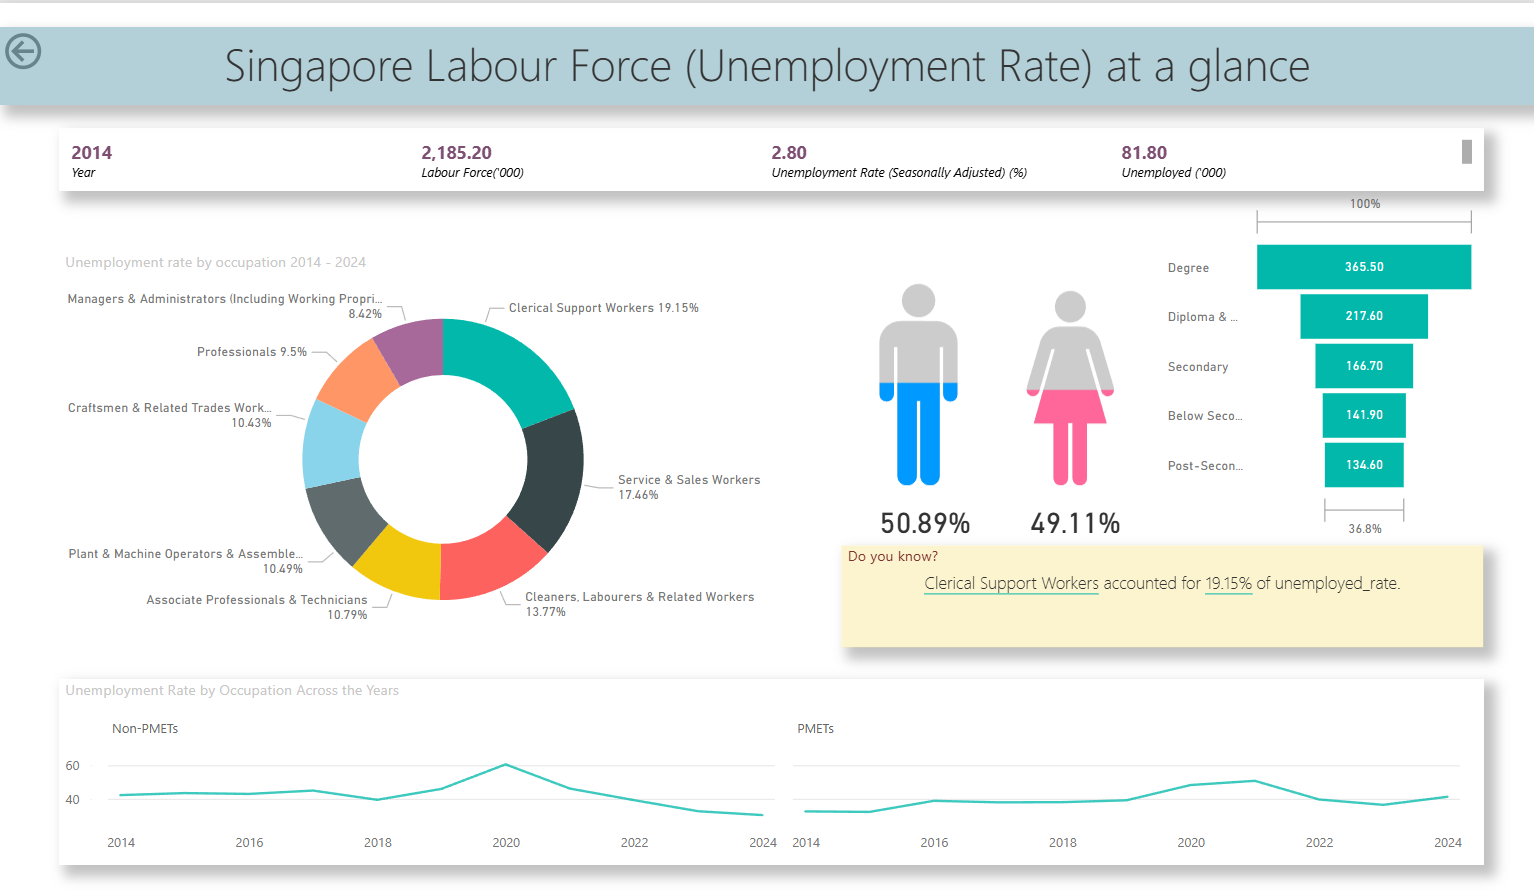

What the dashboard file says about the page in this screenshot:
{"tool":"powerbi","page":{"name":"Page 1","canvas":[1280,720],"ordinal":0},"visuals":[{"type":"image","box":[596.2,406.2,295,67.1],"z":0,"group":"g1"},{"type":"lineChart","title":"Unemployed Rate by Occupation","fields":{"Category":["labourtrendsDB unemployment_rate_by_occupation_long.year"],"Y":["Sum(labourtrendsDB unemployment_rate_by_occupation_long.unemployed_rate)"],"Series":["labourtrendsDB unemployment_rate_by_occupation_long.occupation"]},"box":[0,90.5,1279.7,316.8],"z":0},{"type":"image","box":[806.9,407.8,299.6,65.5],"z":1000,"group":"g1"},{"type":"hundredPercentStackedColumnChart","title":"Unemployed Count by Age Group       ","fields":{"Category":["labourtrendsDB long_term_unemployed_pmets_by_age_long.year"],"Y":["Sum(labourtrendsDB long_term_unemployed_pmets_by_age_long.unemployed_count)"],"Series":["labourtrendsDB long_term_unemployed_pmets_by_age_long.age_group"]},"box":[0,478.3,640,241.7],"z":1000},{"type":"image","box":[1106.5,406.2,152.9,45.3],"z":2000,"group":"g1"},{"type":"clusteredColumnChart","title":"Unemployed Count by Non-PMETs / PMETs","fields":{"Series":["labourtrendsDB long_term_unemployed_pmets_by_age_long.pmets_status"],"Category":["labourtrendsDB long_term_unemployed_pmets_by_age_long.year"],"Y":["Sum(labourtrendsDB long_term_unemployed_pmets_by_age_long.unemployed_count)"]},"box":[639.9,477.6,639.9,241.9],"z":2000},{"type":"slicer","fields":{"Values":["Table.Year"]},"box":[128.4,12.4,131.2,78.7],"z":3000},{"type":"cardVisual","fields":{"Data":["Sum(Table.Labour Force('000))"]},"box":[319.9,0,270,81.2],"z":4000},{"type":"cardVisual","fields":{"Data":["Sum(Table.Unemployed ('000))"]},"box":[625.8,0,265.3,79.6],"z":5000},{"type":"cardVisual","fields":{"Data":["Sum(Table.Unemployment Rate (Seasonally Adjusted) (%))"]},"box":[914.5,0,344.9,81.2],"z":6000},{"type":"shape","box":[0,74.6,1280,19.3],"z":7000},{"type":"group","id":"g1","title":"Group 1","box":[596.2,406.2,663.3,67.1],"z":8000},{"type":"slicer","fields":{"Values":["labourtrendsDB unemployment_rate_by_occupation_long.occupation"]},"box":[15.6,407.3,555.6,65.5],"z":9000},{"type":"textbox","box":[76,6.9,216.8,33.1],"z":10000},{"type":"image","box":[262.9,4.3,30,37.1],"z":10001}]}

Visuals, with their boxes on the page's 1280x720 design canvas (x1, y1, x2, y2). These are canvas units, not pixel positions in the 1534x891 screenshot, which may show the page scaled, cropped or inside an application window:
image: <box>596,406,891,473</box>
"Unemployed Rate by Occupation" lineChart: <box>0,90,1280,407</box>
image: <box>807,408,1106,473</box>
"Unemployed Count by Age Group       " hundredPercentStackedColumnChart: <box>0,478,640,720</box>
image: <box>1106,406,1259,452</box>
"Unemployed Count by Non-PMETs / PMETs" clusteredColumnChart: <box>640,478,1280,720</box>
slicer - Table.Year: <box>128,12,260,91</box>
cardVisual - Sum(Table.Labour Force('000)): <box>320,0,590,81</box>
cardVisual - Sum(Table.Unemployed ('000)): <box>626,0,891,80</box>
cardVisual - Sum(Table.Unemployment Rate (Seasonally Adjusted) (%)): <box>914,0,1259,81</box>
shape: <box>0,75,1280,94</box>
"Group 1" group: <box>596,406,1260,473</box>
slicer - labourtrendsDB unemployment_rate_by_occupation_long.occupation: <box>16,407,571,473</box>
textbox: <box>76,7,293,40</box>
image: <box>263,4,293,41</box>
